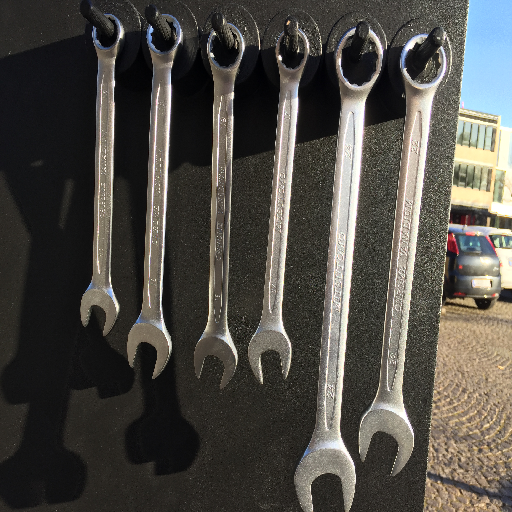bottom: (290, 439, 359, 512), (355, 403, 417, 479), (246, 321, 294, 387), (124, 318, 174, 381), (192, 329, 239, 391), (77, 280, 123, 339)
top: (331, 25, 386, 97), (397, 31, 450, 96), (205, 20, 248, 75), (143, 11, 188, 61), (274, 24, 312, 77), (88, 10, 129, 56)
